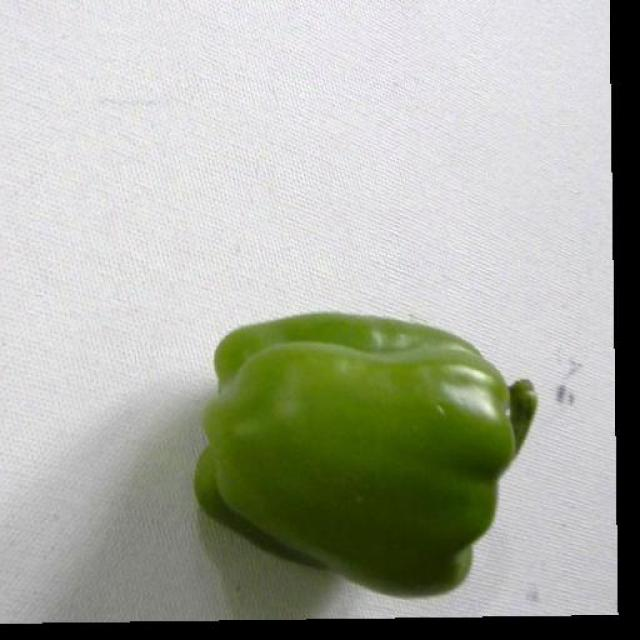Fresh_Capsicum: (196, 200, 547, 612)
